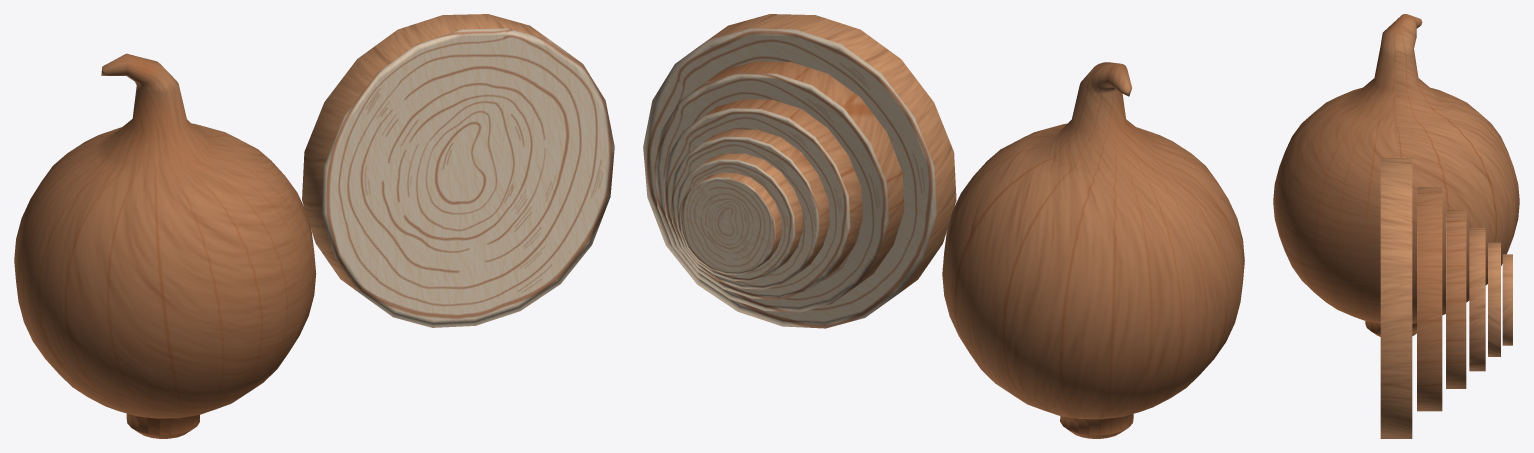
Rendered from onion_diced.glb.
3 views of the same model, side by side, from view 1: azimuth 30°, elevation 25°; view 2: azimuth 150°, elevation 25°; view 3: azimuth 270°, elevation 25° (orthographic). The views are drawn at different scales.
Visible parts, largest first — view 1: pCylinder1, pSphere1; view 2: pSphere1, pCylinder1, pCylinder2, pCylinder3, pCylinder6, pCylinder4, pCylinder5; view 3: pSphere1, pCylinder1, pCylinder2, pCylinder3, pCylinder4, pCylinder5, pCylinder6.
Part boxes in pixels (left/top/right/bottom): pCylinder1: left=302, top=14, right=614, bottom=327; pSphere1: left=14, top=53, right=316, bottom=438; pSphere1: left=942, top=62, right=1244, bottom=438; pCylinder1: left=643, top=14, right=956, bottom=328; pCylinder2: left=654, top=61, right=904, bottom=312; pCylinder3: left=663, top=99, right=862, bottom=299; pCylinder6: left=680, top=172, right=781, bottom=274; pCylinder4: left=670, top=129, right=829, bottom=289; pCylinder5: left=675, top=153, right=803, bottom=281; pSphere1: left=1273, top=14, right=1519, bottom=336; pCylinder1: left=1380, top=158, right=1412, bottom=438; pCylinder2: left=1417, top=187, right=1442, bottom=411; pCylinder3: left=1446, top=210, right=1466, bottom=388; pCylinder4: left=1469, top=228, right=1485, bottom=371; pCylinder5: left=1488, top=242, right=1500, bottom=356; pCylinder6: left=1502, top=254, right=1512, bottom=345.
Size of the model in its own units: 0.3365 by 0.2116 by 0.1549.
1 material, 1 textured.
